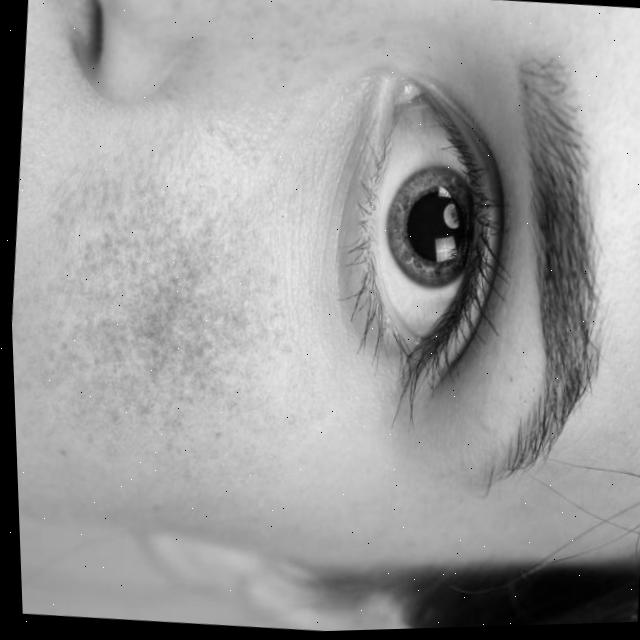Rosacea: (76, 198, 251, 446)
